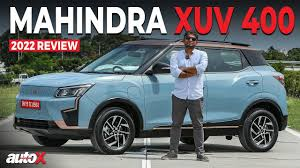XUV 400: (12, 38, 290, 154)
